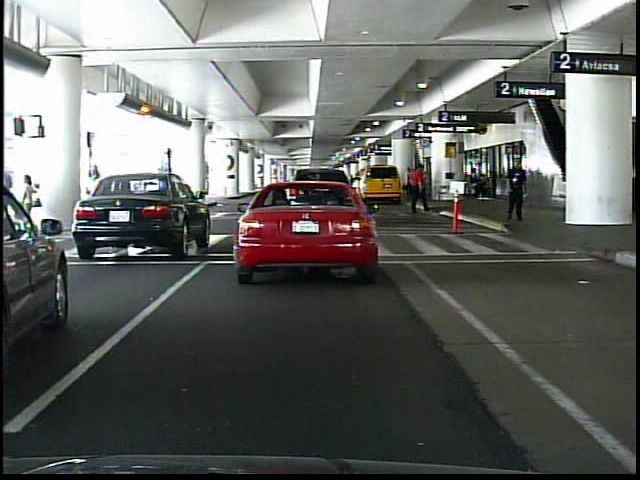person: (79, 163, 111, 244), (507, 155, 529, 225), (19, 171, 39, 241), (411, 164, 430, 217), (405, 166, 418, 203)
